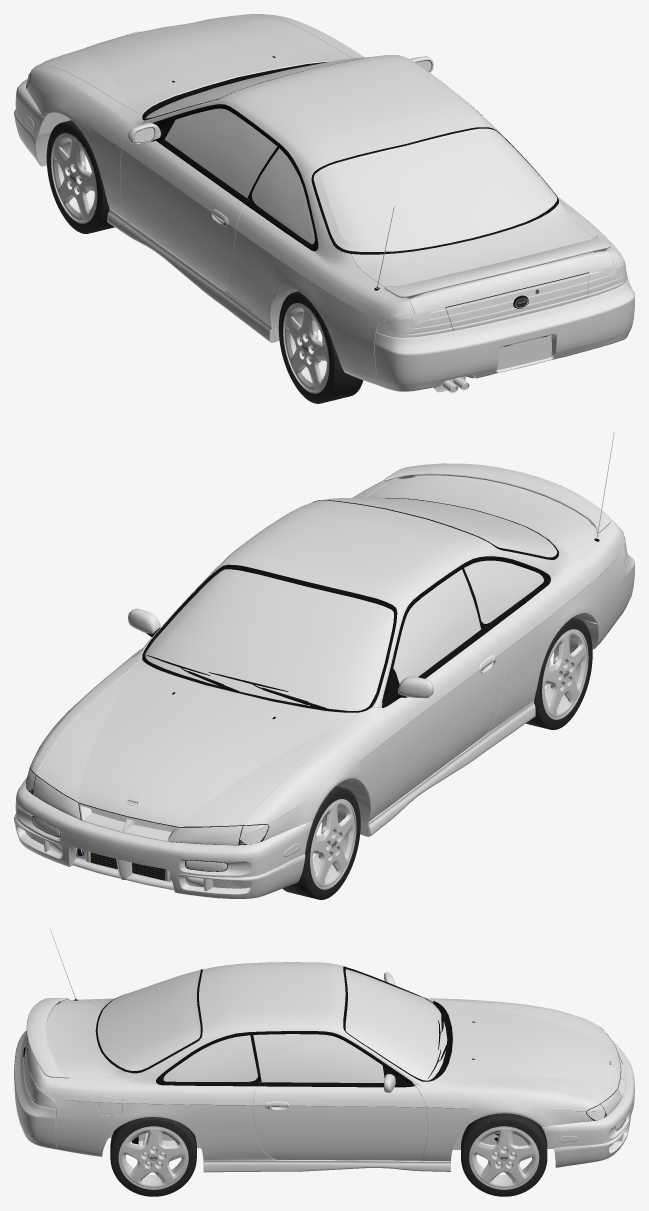
The model's file is vp_nsn_240sx_98.glb.
3 views of the same model, one above another, from view 1: azimuth 30°, elevation 25°; view 2: azimuth 150°, elevation 25°; view 3: azimuth 270°, elevation 25° (orthographic). The views are drawn at different scales.
Visible parts, largest first — view 1: vp_nsn_240sx_98/resources/vehicle/vp_nsn_240sx_98/fenders0_l, vp_nsn_240sx_98/resources/vehicle/vp_nsn_240sx_98/body_lod_0 (×3), vp_nsn_240sx_98/resources/vehicle/vp_nsn_240sx_98/hood0_lod_, vp_nsn_240sx_98/resources/vehicle/vp_nsn_240sx_98/bumper_r0_, vp_nsn_240sx_98/resources/vehicle/vp_nsn_240sx_98/door_l0_lo, vp_nsn_240sx_98/resources/vehicle/vp_nsn_240sx_98/taillight_ (×2), shared/resources/rims/whl_stk_nsn_240sx_98@axl_0/model0, shared/resources/rims/whl_stk_nsn_240sx_98@axl_2/model0, vp_nsn_240sx_98/resources/vehicle/vp_nsn_240sx_98/spoiler0_l, vp_nsn_240sx_98/resources/vehicle/vp_nsn_240sx_98/taillight0 (×2), vp_nsn_240sx_98/resources/vehicle/vp_nsn_240sx_98/skirts0_lo, shared/resources/tires/models/tir_car@axl_2/model0 (+2 smaller); view 2: vp_nsn_240sx_98/resources/vehicle/vp_nsn_240sx_98/fenders0_l, vp_nsn_240sx_98/resources/vehicle/vp_nsn_240sx_98/body_lod_0 (×4), vp_nsn_240sx_98/resources/vehicle/vp_nsn_240sx_98/hood0_lod_, vp_nsn_240sx_98/resources/vehicle/vp_nsn_240sx_98/bumper_f0_ (×2), vp_nsn_240sx_98/resources/vehicle/vp_nsn_240sx_98/door_l0_lo, vp_nsn_240sx_98/resources/vehicle/vp_nsn_240sx_98/spoiler0_l, shared/resources/rims/whl_stk_nsn_240sx_98@axl_0/model0, shared/resources/rims/whl_stk_nsn_240sx_98@axl_2/model0, vp_nsn_240sx_98/resources/vehicle/vp_nsn_240sx_98/headlight0, vp_nsn_240sx_98/resources/vehicle/vp_nsn_240sx_98/skirts0_lo, shared/resources/tires/models/tir_car@axl_0/model0, shared/resources/tires/models/tir_car@axl_2/model0 (+2 smaller); view 3: vp_nsn_240sx_98/resources/vehicle/vp_nsn_240sx_98/fenders0_l, vp_nsn_240sx_98/resources/vehicle/vp_nsn_240sx_98/body_lod_0 (×3), vp_nsn_240sx_98/resources/vehicle/vp_nsn_240sx_98/hood0_lod_, vp_nsn_240sx_98/resources/vehicle/vp_nsn_240sx_98/door_r0_lo, vp_nsn_240sx_98/resources/vehicle/vp_nsn_240sx_98/bumper_f0_, vp_nsn_240sx_98/resources/vehicle/vp_nsn_240sx_98/bumper_r0_, shared/resources/rims/whl_stk_nsn_240sx_98@axl_3/model0, shared/resources/rims/whl_stk_nsn_240sx_98@axl_1/model0, vp_nsn_240sx_98/resources/vehicle/vp_nsn_240sx_98/skirts0_lo, shared/resources/tires/models/tir_car@axl_1/model0, shared/resources/tires/models/tir_car@axl_3/model0, vp_nsn_240sx_98/resources/vehicle/vp_nsn_240sx_98/spoiler0_l (+1 smaller).
Boxes of the visible parts, <box> form: vp_nsn_240sx_98/resources/vehicle/vp_nsn_240sx_98/fenders0_l: <box>26,14,624,360</box>; vp_nsn_240sx_98/resources/vehicle/vp_nsn_240sx_98/body_lod_0 (×3): <box>145,56,613,313</box>; vp_nsn_240sx_98/resources/vehicle/vp_nsn_240sx_98/hood0_lod_: <box>38,14,351,115</box>; vp_nsn_240sx_98/resources/vehicle/vp_nsn_240sx_98/bumper_r0_: <box>332,278,634,391</box>; vp_nsn_240sx_98/resources/vehicle/vp_nsn_240sx_98/door_l0_lo: <box>120,120,248,291</box>; vp_nsn_240sx_98/resources/vehicle/vp_nsn_240sx_98/taillight_ (×2): <box>445,273,588,330</box>; shared/resources/rims/whl_stk_nsn_240sx_98@axl_0/model0: <box>51,133,97,223</box>; shared/resources/rims/whl_stk_nsn_240sx_98@axl_2/model0: <box>283,303,329,393</box>; vp_nsn_240sx_98/resources/vehicle/vp_nsn_240sx_98/spoiler0_l: <box>384,235,610,298</box>; vp_nsn_240sx_98/resources/vehicle/vp_nsn_240sx_98/taillight0 (×2): <box>376,261,627,337</box>; vp_nsn_240sx_98/resources/vehicle/vp_nsn_240sx_98/skirts0_lo: <box>107,208,319,342</box>; shared/resources/tires/models/tir_car@axl_2/model0: <box>278,291,363,403</box>; vp_nsn_240sx_98/resources/vehicle/vp_nsn_240sx_98/fenders0_l: <box>26,478,625,841</box>; vp_nsn_240sx_98/resources/vehicle/vp_nsn_240sx_98/body_lod_0 (×4): <box>145,432,614,710</box>; vp_nsn_240sx_98/resources/vehicle/vp_nsn_240sx_98/hood0_lod_: <box>37,660,358,826</box>; vp_nsn_240sx_98/resources/vehicle/vp_nsn_240sx_98/bumper_f0_ (×2): <box>14,777,313,898</box>; vp_nsn_240sx_98/resources/vehicle/vp_nsn_240sx_98/door_l0_lo: <box>382,628,504,806</box>; vp_nsn_240sx_98/resources/vehicle/vp_nsn_240sx_98/spoiler0_l: <box>384,463,610,533</box>; shared/resources/rims/whl_stk_nsn_240sx_98@axl_0/model0: <box>310,799,356,889</box>; shared/resources/rims/whl_stk_nsn_240sx_98@axl_2/model0: <box>542,629,588,719</box>; vp_nsn_240sx_98/resources/vehicle/vp_nsn_240sx_98/headlight0: <box>26,768,268,844</box>; vp_nsn_240sx_98/resources/vehicle/vp_nsn_240sx_98/skirts0_lo: <box>321,701,535,836</box>; shared/resources/tires/models/tir_car@axl_0/model0: <box>282,786,360,899</box>; shared/resources/tires/models/tir_car@axl_2/model0: <box>526,617,592,729</box>; vp_nsn_240sx_98/resources/vehicle/vp_nsn_240sx_98/fenders0_l: <box>35,962,621,1161</box>; vp_nsn_240sx_98/resources/vehicle/vp_nsn_240sx_98/body_lod_0 (×3): <box>27,928,447,1082</box>; vp_nsn_240sx_98/resources/vehicle/vp_nsn_240sx_98/hood0_lod_: <box>434,1000,620,1103</box>; vp_nsn_240sx_98/resources/vehicle/vp_nsn_240sx_98/door_r0_lo: <box>253,1065,426,1160</box>; vp_nsn_240sx_98/resources/vehicle/vp_nsn_240sx_98/bumper_f0_: <box>542,1040,634,1167</box>; vp_nsn_240sx_98/resources/vehicle/vp_nsn_240sx_98/bumper_r0_: <box>14,1030,108,1156</box>; shared/resources/rims/whl_stk_nsn_240sx_98@axl_3/model0: <box>118,1126,188,1189</box>; shared/resources/rims/whl_stk_nsn_240sx_98@axl_1/model0: <box>469,1126,539,1189</box>; vp_nsn_240sx_98/resources/vehicle/vp_nsn_240sx_98/skirts0_lo: <box>203,1160,450,1172</box>; shared/resources/tires/models/tir_car@axl_1/model0: <box>461,1113,547,1196</box>; shared/resources/tires/models/tir_car@axl_3/model0: <box>110,1117,196,1196</box>; vp_nsn_240sx_98/resources/vehicle/vp_nsn_240sx_98/spoiler0_l: <box>26,998,69,1078</box>.
Bounding box in the file's own units: 1.93 × 1.45 × 4.52.
147 materials, 78 textured.
